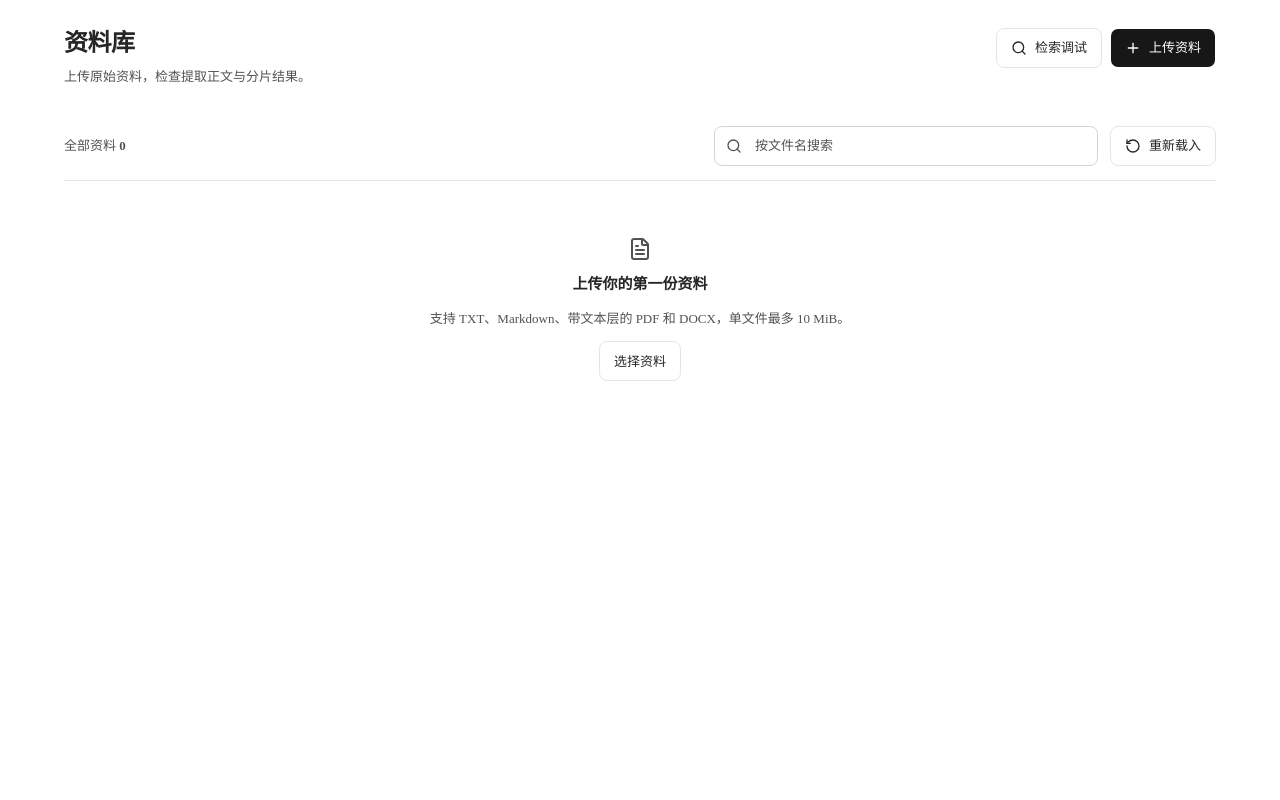
independent shadcn knowledge upload and source controls › opens a modal from 选择资料 and restores the actual opener after dismissal
Check: the heading "上传你的第一份资料" is shown, box [572,273,708,296]
Click the button "选择资料".
click(640, 361)  # box [599,341,681,381]
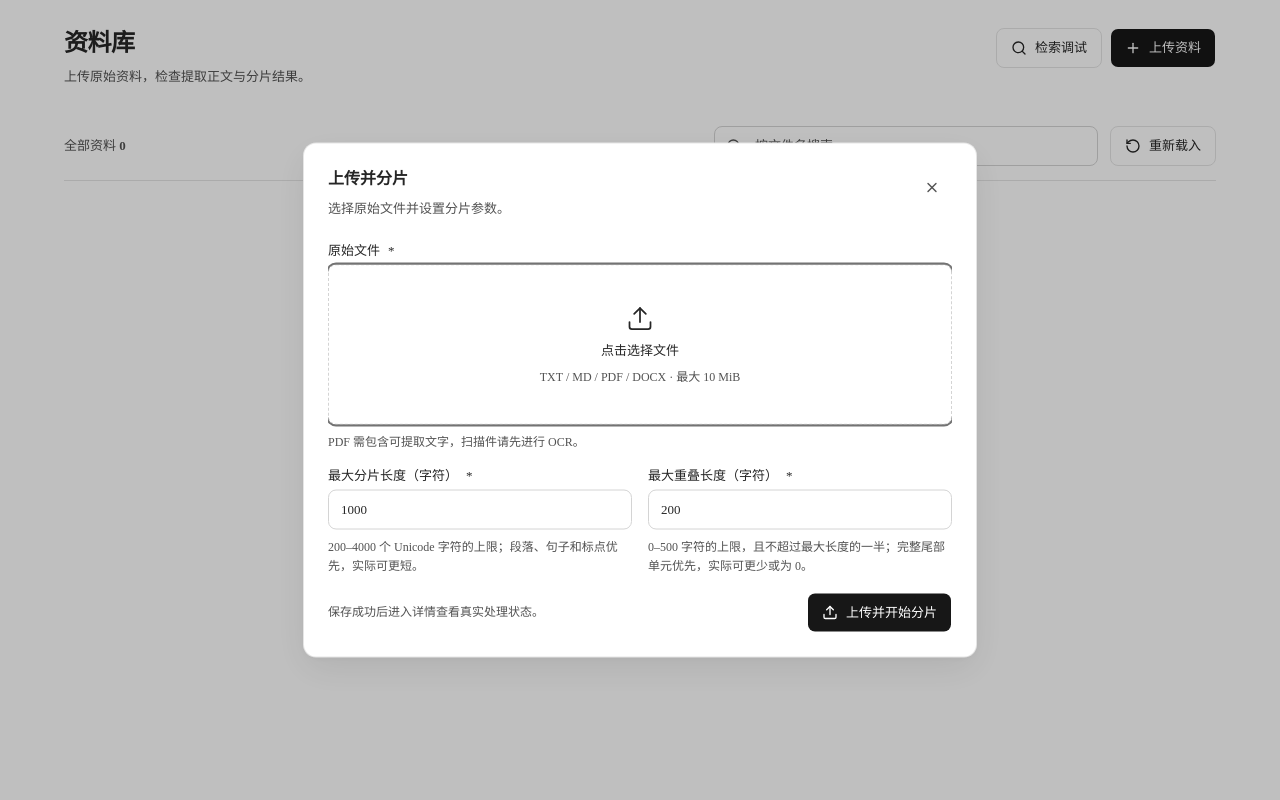
Click the button named "关闭上传表单".
click(932, 188)  # box [912,168,952,208]
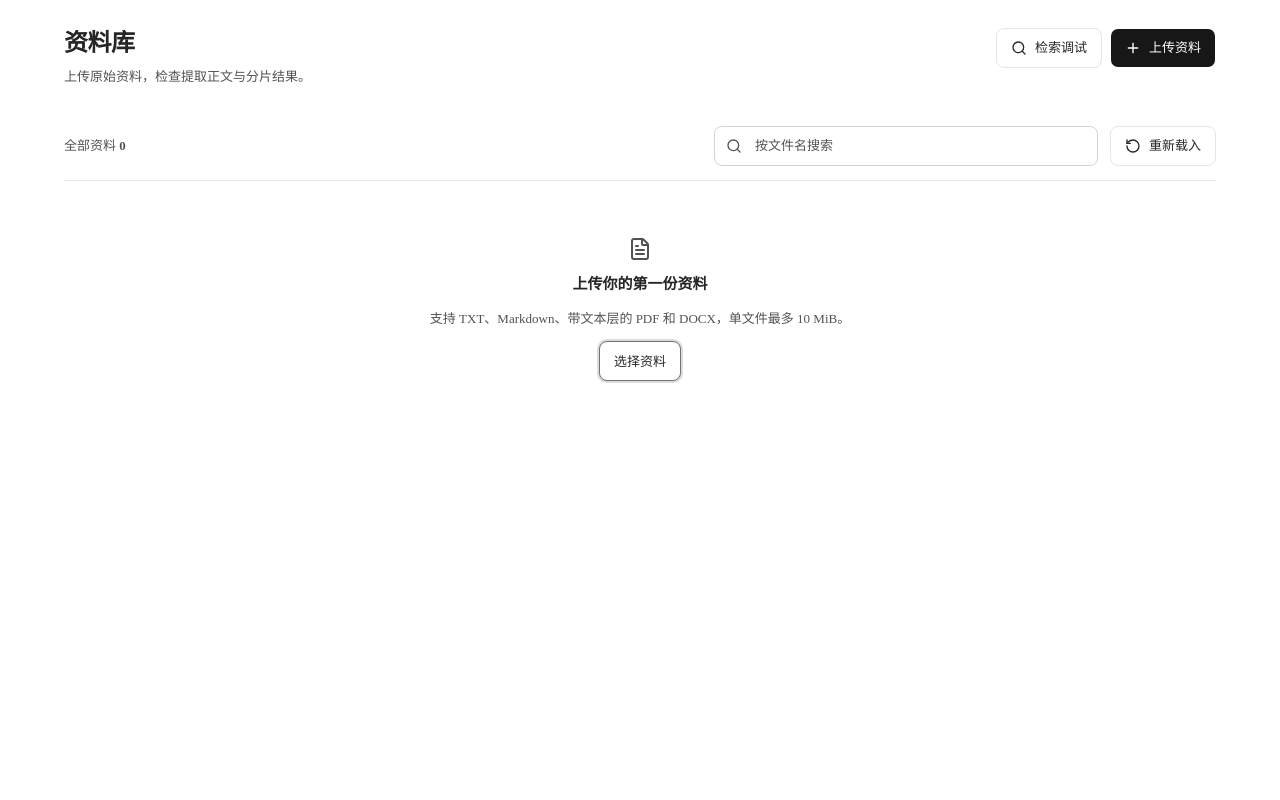
Check: the dialog is gone
Check: the text labelled "原始文件" is gone
Click the button "选择资料".
click(640, 361)  # box [599,341,681,381]
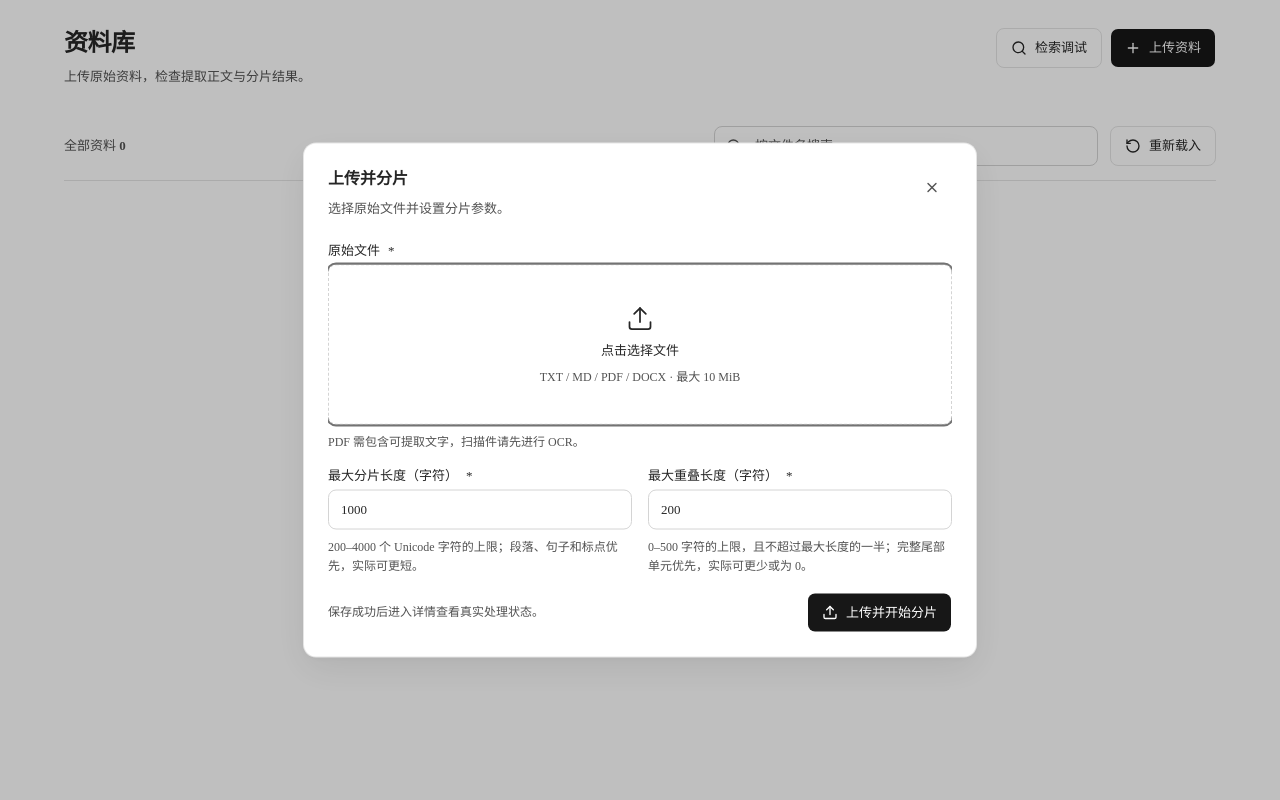
Press Escape
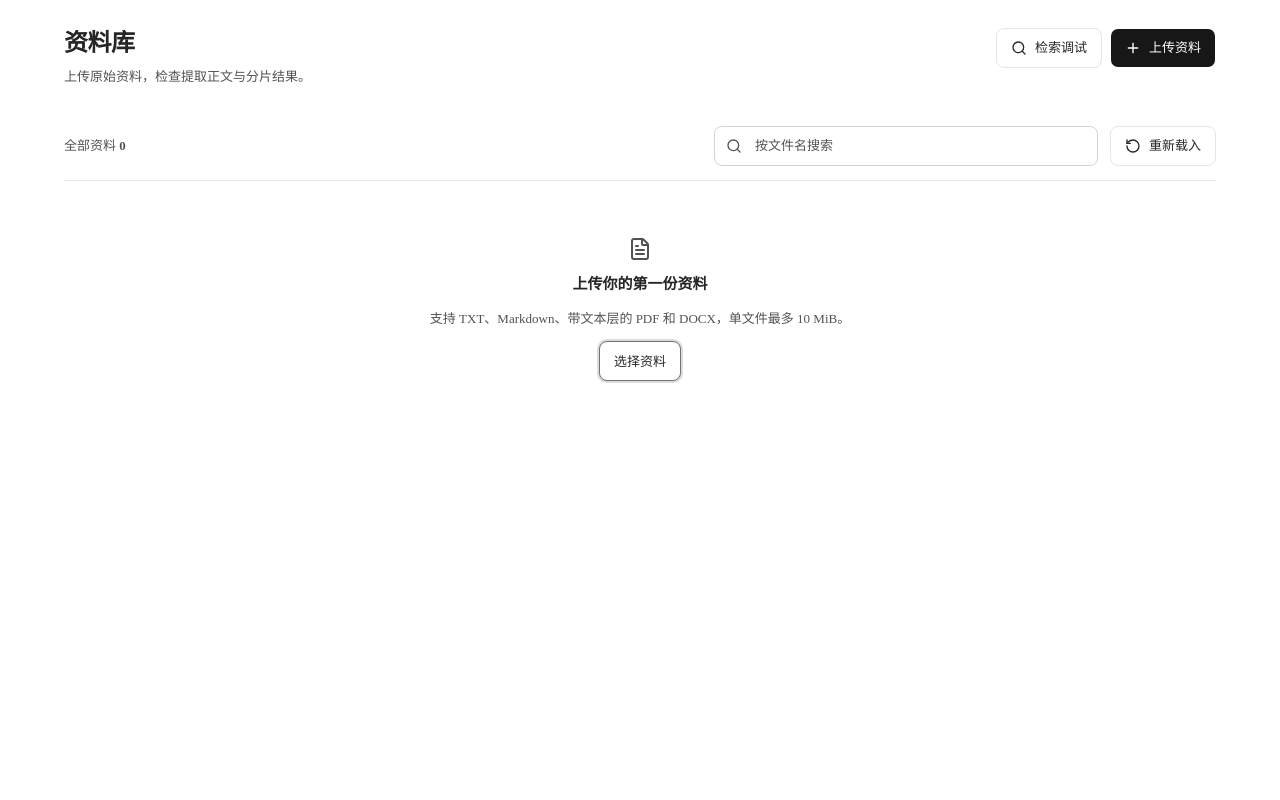
Check: the dialog is gone
Check: the text labelled "原始文件" is gone
